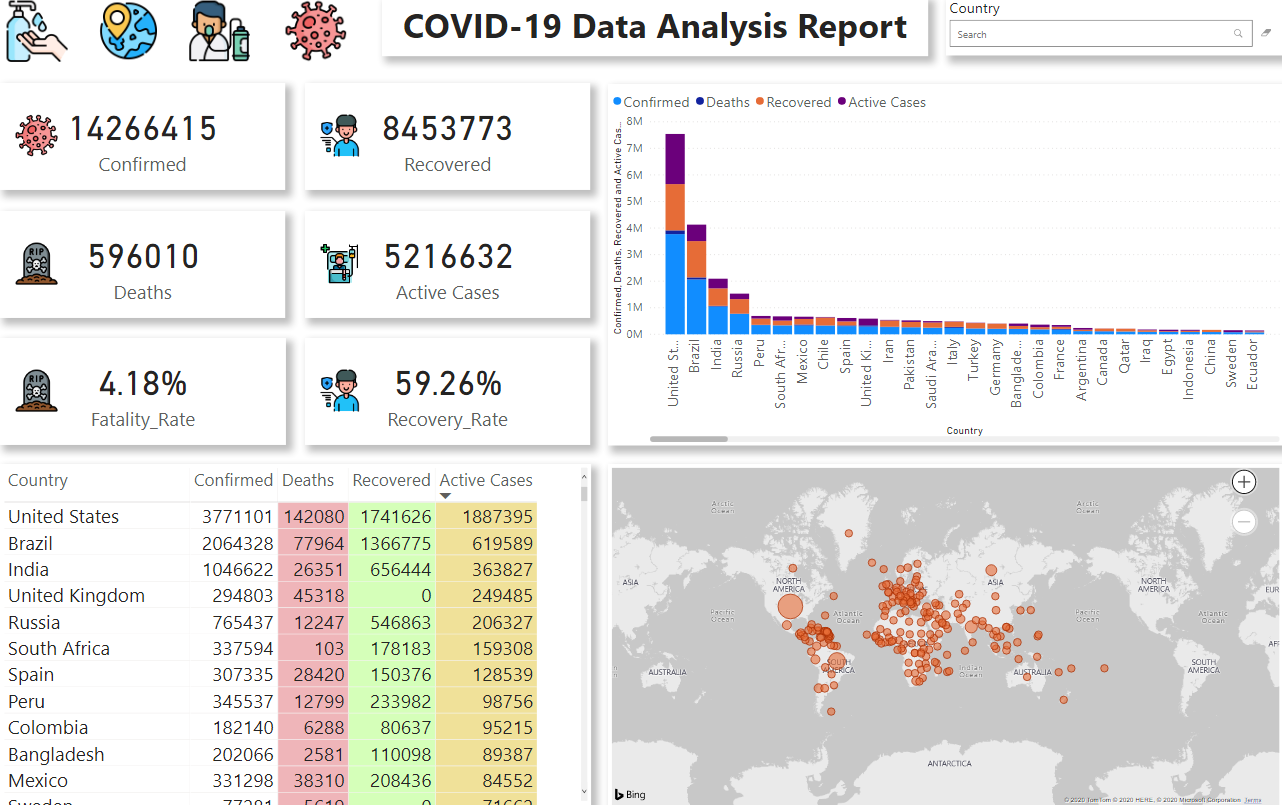

This screenshot's page, from the dashboard's own definition file:
{"tool":"powerbi","page":{"name":"Dashboard","canvas":[1800,1150],"ordinal":0},"visuals":[{"type":"image","box":[3.9,0,96,96],"z":0},{"type":"card","fields":{"Values":["Sum(countries.Active_Cases)"]},"box":[428.2,299.5,400,150],"z":0,"group":"g2"},{"type":"image","box":[260.1,0,96.8,95.4],"z":1000},{"type":"card","fields":{"Values":["Sum(countries.Recovered)"]},"box":[428.2,121.2,400,150],"z":1000,"group":"g1"},{"type":"image","box":[131.5,0,96.9,95.3],"z":2000},{"type":"card","fields":{"Values":["Sum(countries.Confirmed)"]},"box":[0,121.2,400,150],"z":2000,"group":"g6"},{"type":"textbox","box":[535.7,0,765.7,82.7],"z":3000},{"type":"card","fields":{"Values":["Sum(countries.Deaths)"]},"box":[0,299.5,400,150],"z":3000,"group":"g5"},{"type":"columnChart","fields":{"Y":["Sum(countries.Confirmed)","Sum(countries.Deaths)","Sum(countries.Recovered)","Sum(countries.Active Cases)"],"Category":["countries.Country"]},"box":[852.8,121.8,947.2,507.1],"z":4000},{"type":"image","box":[16.2,160,69.5,69.5],"z":5000,"group":"g6"},{"type":"image","box":[16.2,338.3,69.5,69.5],"z":5000,"group":"g5"},{"type":"tableEx","fields":{"Values":["countries.Country","Sum(countries.Confirmed)","Sum(countries.Deaths)","Sum(countries.Recovered)","Sum(countries.Active Cases)"]},"box":[0,654.4,828.9,486.4],"z":5000},{"type":"map","fields":{"Category":["countries.Country"],"Size":["Sum(countries.Confirmed)"]},"box":[853.1,654.4,946.9,486.4],"z":6000},{"type":"group","id":"g1","title":"Group 1","box":[428.2,121.2,400.7,150.3],"z":7000},{"type":"group","id":"g2","title":"Group 2","box":[428.2,299.5,400.7,150.3],"z":8000},{"type":"image","box":[442.7,338.3,69.5,69.5],"z":8000,"group":"g2"},{"type":"group","id":"g3","title":"Group 3","box":[428.2,477.9,400.7,150.3],"z":9000},{"type":"group","id":"g4","title":"Group 4","box":[0,477.9,400.7,150.3],"z":10000},{"type":"image","box":[442.7,160,69.5,69.5],"z":11000,"group":"g1"},{"type":"group","id":"g5","title":"Group 5","box":[0,299.5,400,150],"z":11000},{"type":"textFilter25A4896A83E0487089E2B90C9AE57C8A","fields":{"field":["countries.Country"]},"box":[1326.6,0,473.4,82.4],"z":12000},{"type":"card","fields":{"Values":["countries.Recovery_Rate"]},"box":[428.2,477.9,400,150],"z":12000,"group":"g3"},{"type":"image","box":[388.5,0,108,95.4],"z":13000},{"type":"image","box":[442.7,516.7,69.5,69.5],"z":13000,"group":"g3"},{"type":"group","id":"g6","title":"Group 6","box":[0,121.2,400,150],"z":14000},{"type":"card","fields":{"Values":["countries.Fatality_Rate"]},"box":[0,477.9,400.7,150.3],"z":15000,"group":"g4"},{"type":"image","box":[16.2,517.1,69.5,69.5],"z":16000,"group":"g4"}]}

Visuals, with their boxes in screenshot pixels (x1, y1, x2, y2), scaled from the page's 1800x1150 canvas onto the 1282x805 screenshot:
image: <bbox>3, 0, 71, 67</bbox>
card - Sum(countries.Active_Cases): <bbox>305, 210, 590, 315</bbox>
image: <bbox>185, 0, 254, 67</bbox>
card - Sum(countries.Recovered): <bbox>305, 85, 590, 190</bbox>
image: <bbox>94, 0, 163, 67</bbox>
card - Sum(countries.Confirmed): <bbox>0, 85, 285, 190</bbox>
textbox: <bbox>382, 0, 927, 58</bbox>
card - Sum(countries.Deaths): <bbox>0, 210, 285, 315</bbox>
columnChart - Sum(countries.Confirmed) x Sum(countries.Deaths): <bbox>607, 85, 1281, 440</bbox>
image: <bbox>12, 112, 61, 161</bbox>
image: <bbox>12, 237, 61, 285</bbox>
tableEx - countries.Country x Sum(countries.Confirmed): <bbox>0, 458, 590, 799</bbox>
map - countries.Country x Sum(countries.Confirmed): <bbox>608, 458, 1281, 799</bbox>
"Group 1" group: <bbox>305, 85, 590, 190</bbox>
"Group 2" group: <bbox>305, 210, 590, 315</bbox>
image: <bbox>315, 237, 365, 285</bbox>
"Group 3" group: <bbox>305, 335, 590, 440</bbox>
"Group 4" group: <bbox>0, 335, 285, 440</bbox>
image: <bbox>315, 112, 365, 161</bbox>
"Group 5" group: <bbox>0, 210, 285, 315</bbox>
textFilter25A4896A83E0487089E2B90C9AE57C8A - countries.Country: <bbox>945, 0, 1281, 58</bbox>
card - countries.Recovery_Rate: <bbox>305, 335, 590, 440</bbox>
image: <bbox>277, 0, 354, 67</bbox>
image: <bbox>315, 362, 365, 410</bbox>
"Group 6" group: <bbox>0, 85, 285, 190</bbox>
card - countries.Fatality_Rate: <bbox>0, 335, 285, 440</bbox>
image: <bbox>12, 362, 61, 411</bbox>
